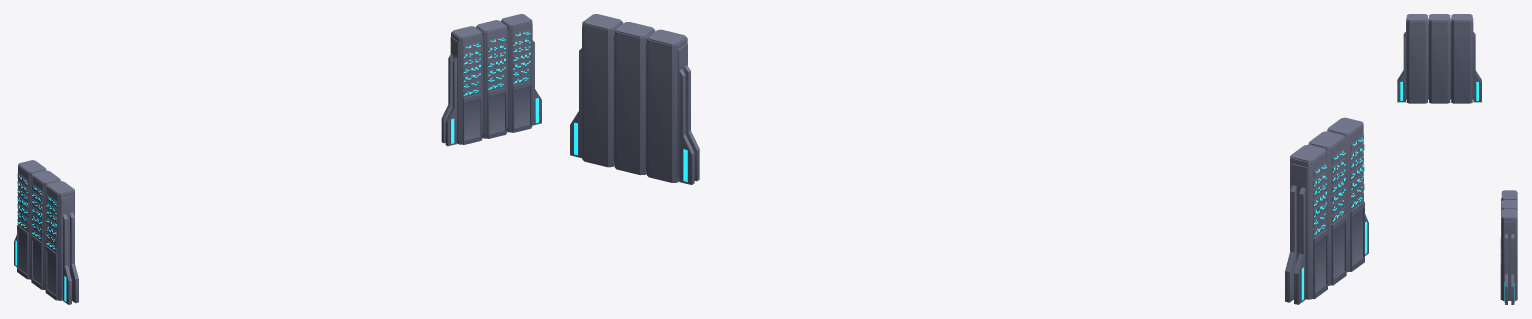
Rendered from PR888.fbx_server.fbx.
3 renders of one model, left to right at view 1: azimuth 30°, elevation 25°; view 2: azimuth 150°, elevation 25°; view 3: azimuth 270°, elevation 25°, orthographic. The views are drawn at different scales.
Visible parts, largest first — view 1: server.1, server.2; view 2: server.1, server.2; view 3: server.2, server.1.
Part boxes in pixels (x1,y1,x2,y2): server.1: (441, 14, 541, 146); server.2: (14, 160, 78, 304); server.1: (570, 14, 699, 184); server.2: (1285, 117, 1368, 304); server.2: (1397, 14, 1481, 103); server.1: (1500, 190, 1517, 304).
Bounding box in the file's own units: 9233 × 1748 × 2262.
